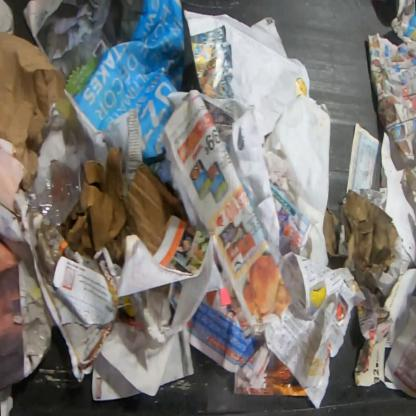cardboard: (57, 147, 190, 269), (324, 189, 398, 274)
rigid_plastic: (27, 154, 82, 229)
